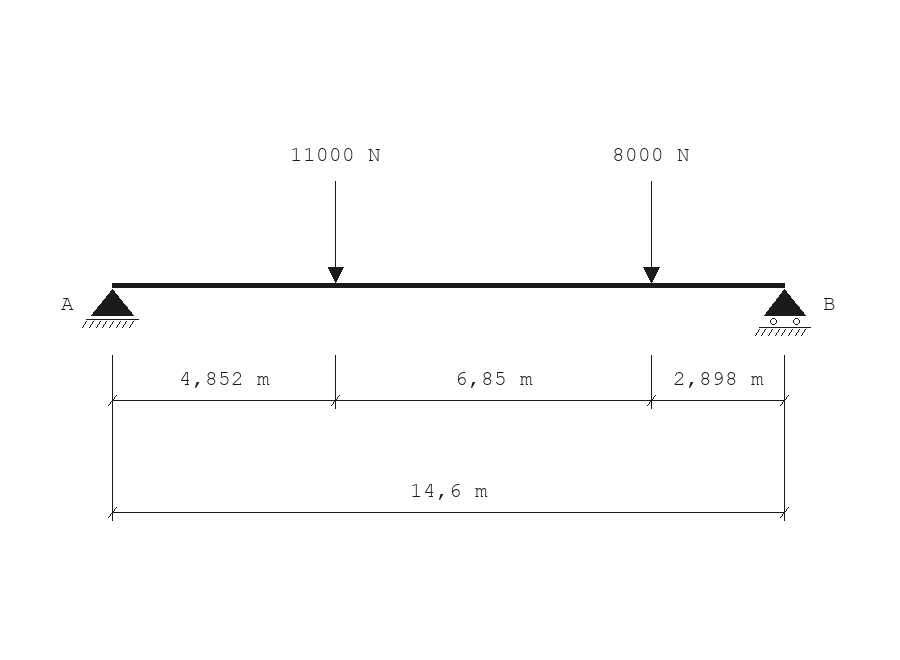pin_support: (82, 289, 139, 328)
point_load: (643, 181, 660, 283), (328, 181, 344, 283)
roller_support: (755, 289, 811, 336)
